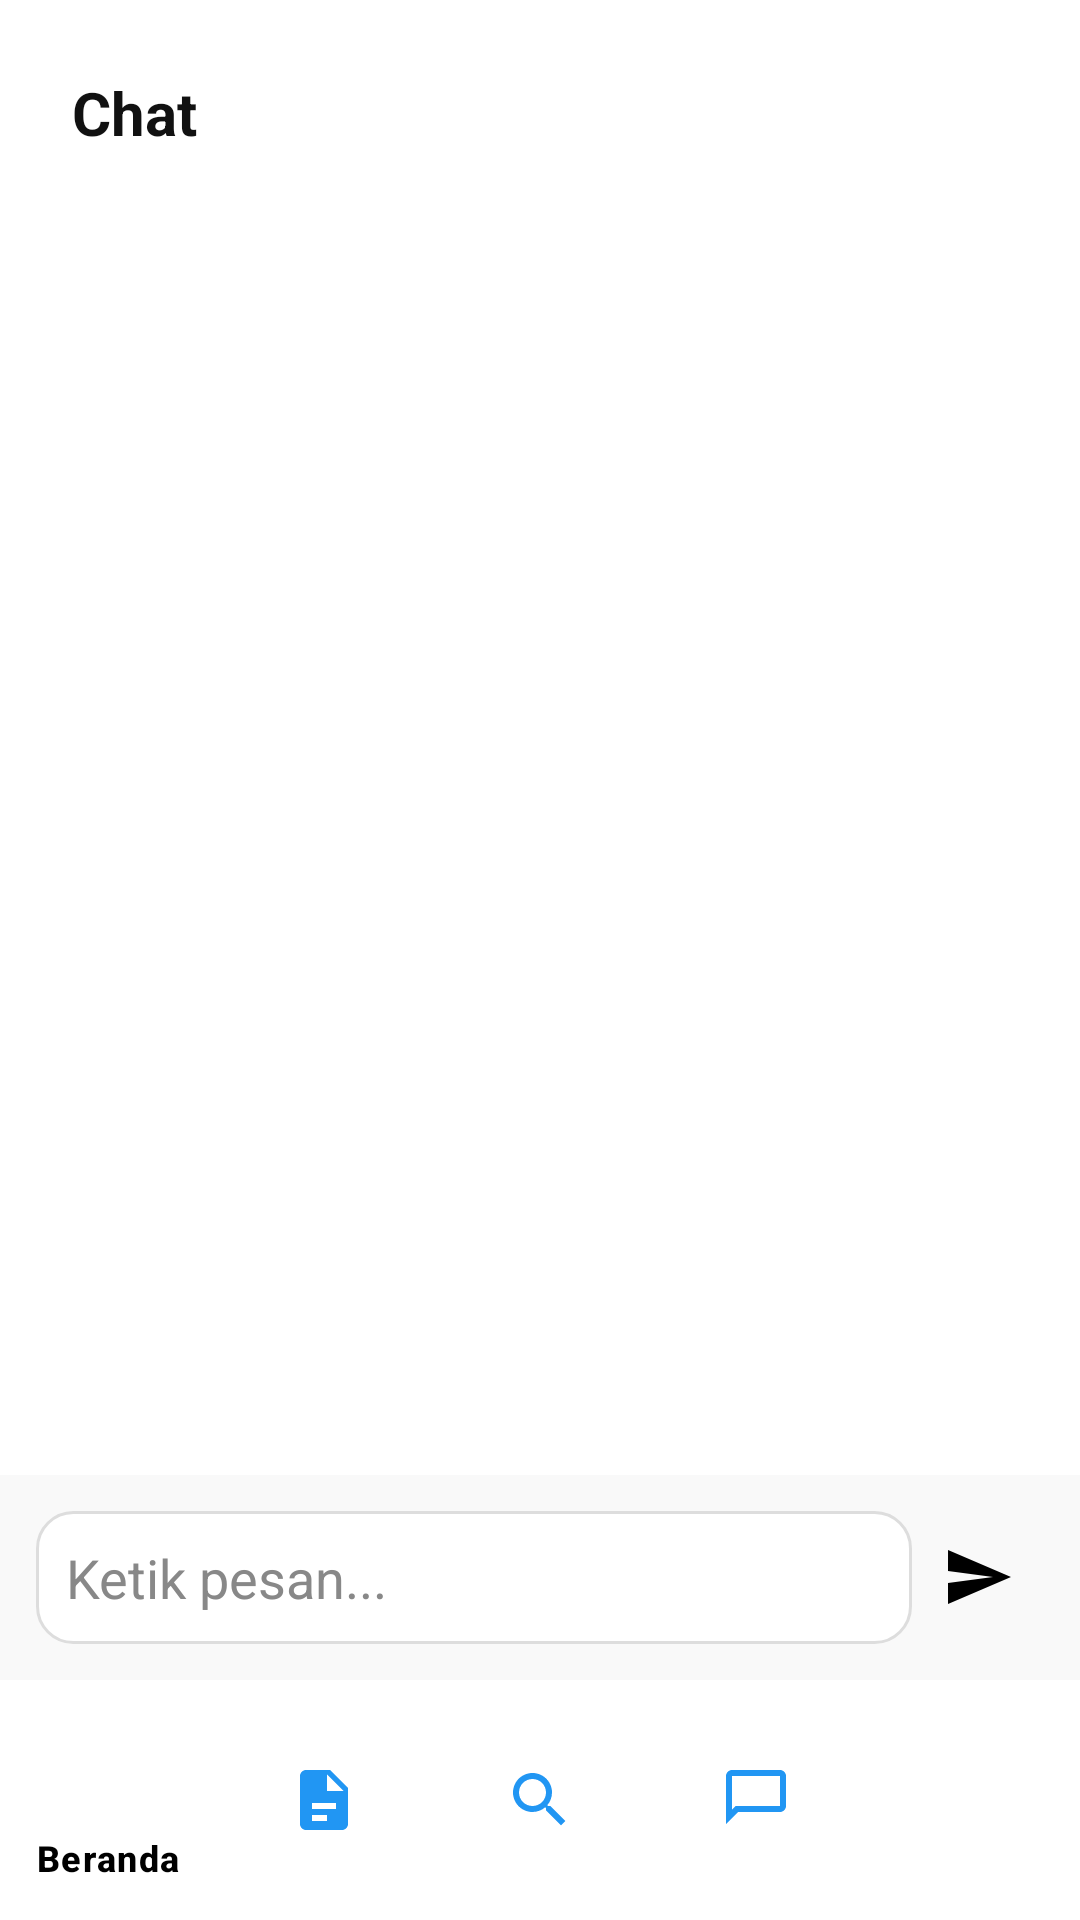

Point at icon controls on the screen. Image size 1080w x 1920h, points as point (x, y).
Send: point (979, 1577)
